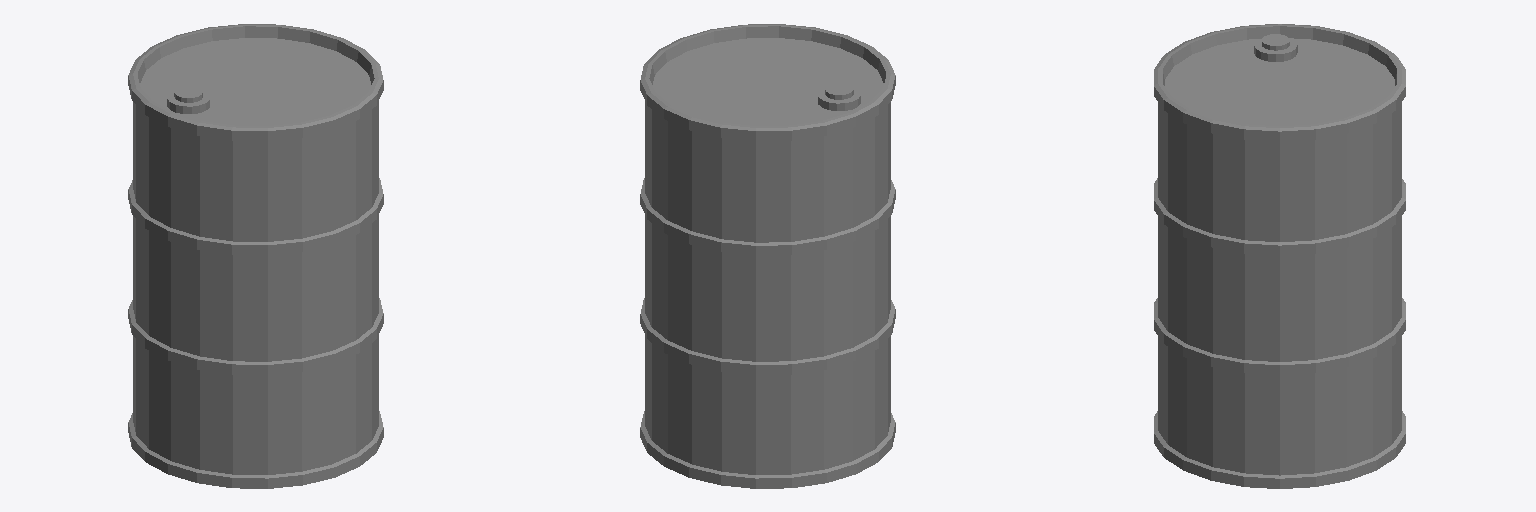
The model's file is Barrel.obj.
3 renders of one model, left to right at view 1: azimuth 30°, elevation 25°; view 2: azimuth 150°, elevation 25°; view 3: azimuth 270°, elevation 25°, orthographic.
Parts seen in each view (by area): view 1: barrel_YELLOW; view 2: barrel_YELLOW; view 3: barrel_YELLOW.
Part boxes in pixels (x1,y1,x2,y2): barrel_YELLOW: (128,24,383,488); barrel_YELLOW: (640,24,895,488); barrel_YELLOW: (1154,24,1405,488).
Bounding box in the file's own units: 0.5842 × 0.9191 × 0.5783.